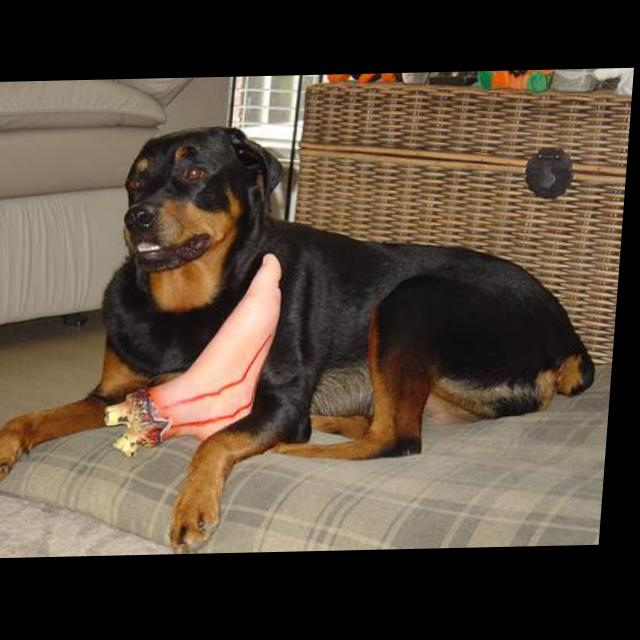rottweiler: (1, 118, 619, 559)
